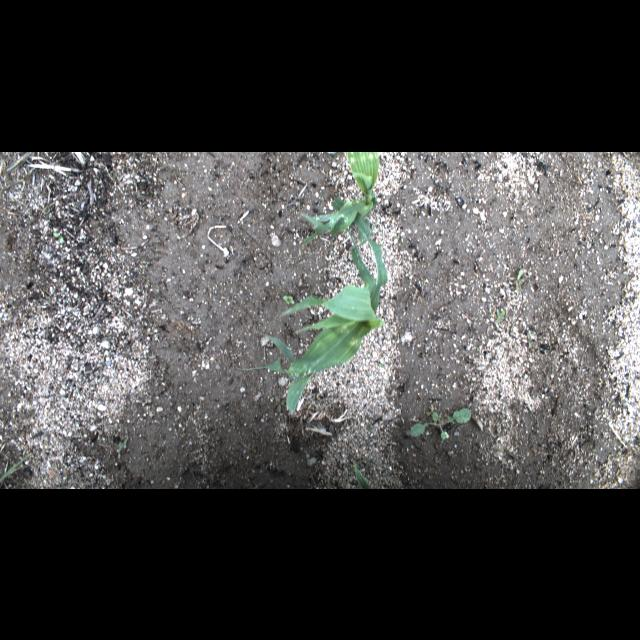crop: (238, 196, 388, 414), (301, 151, 379, 249), (355, 464, 371, 488)
weed: (406, 407, 472, 439), (1, 452, 36, 482), (512, 268, 524, 294), (118, 437, 128, 459), (52, 230, 64, 244), (274, 396, 284, 412), (496, 308, 504, 324), (282, 294, 294, 304), (324, 151, 340, 155)
